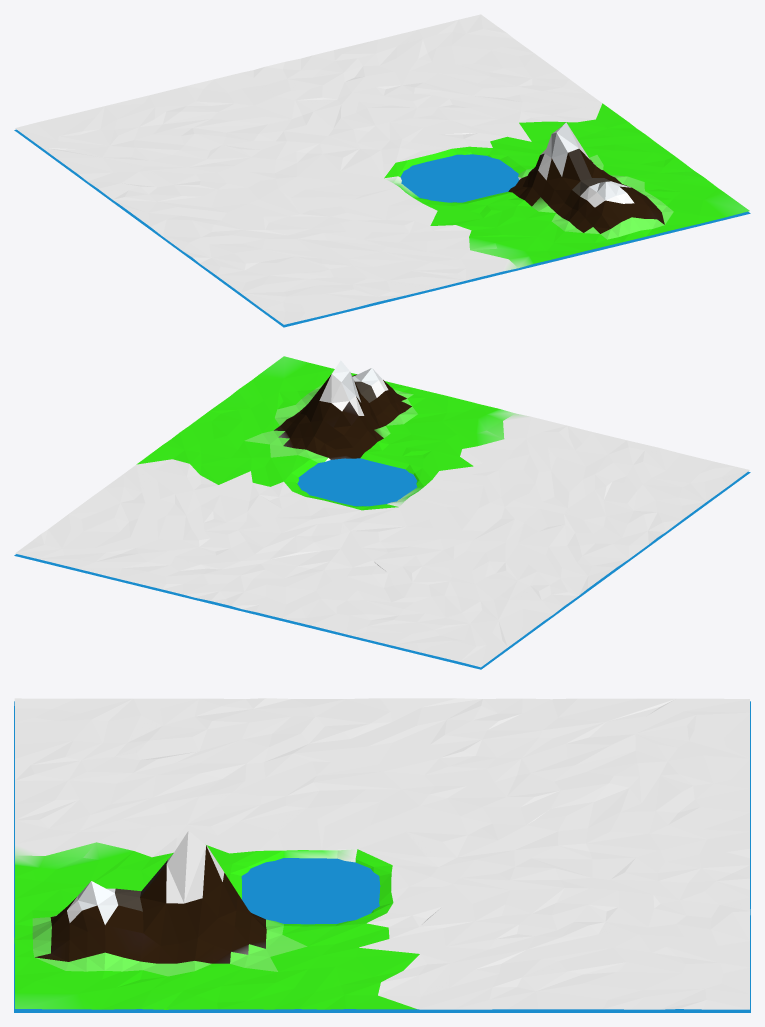
Rendered from landscape.fbx.
3 views of the same model, one above another, from view 1: azimuth 30°, elevation 25°; view 2: azimuth 150°, elevation 25°; view 3: azimuth 270°, elevation 25° (orthographic). The views are drawn at different scales.
Visible parts, largest first — view 1: Plane, Plane.001; view 2: Plane, Plane.001; view 3: Plane, Plane.001.
Part boxes in pixels (<box>): Plane: <box>15,14,749,324</box>; Plane.001: <box>14,129,750,327</box>; Plane: <box>15,356,749,667</box>; Plane.001: <box>14,458,750,669</box>; Plane: <box>14,698,750,1009</box>; Plane.001: <box>14,701,750,1012</box>.
Bounding box in the file's own units: 3398 × 613 × 3398.
